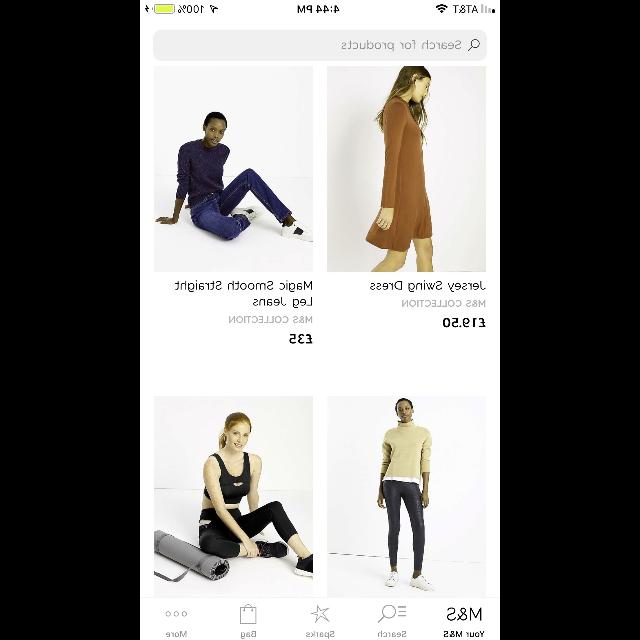icon: (378, 605, 406, 623), (310, 605, 330, 623), (240, 604, 256, 624), (467, 40, 479, 52)
image: (326, 66, 486, 272), (154, 66, 314, 272), (326, 396, 486, 596), (154, 397, 312, 598)
input: (154, 30, 486, 60)
pageindicator: (165, 612, 187, 616)
text: (175, 280, 312, 308), (370, 280, 486, 292), (342, 40, 461, 51), (230, 316, 312, 324), (402, 300, 484, 306), (442, 318, 486, 328), (446, 608, 482, 620), (444, 631, 484, 637), (306, 631, 334, 639), (290, 334, 312, 344), (378, 631, 406, 637), (240, 631, 256, 639), (166, 631, 186, 637)
uppertaskbar: (140, 0, 500, 14)
